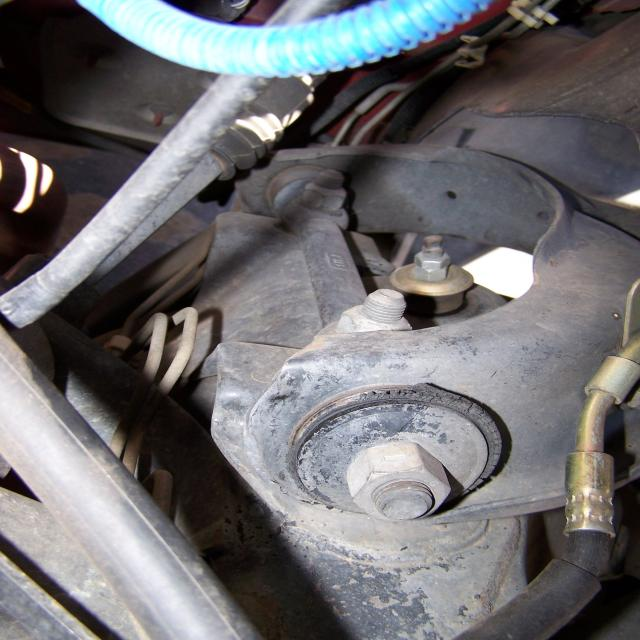bolt nut: (344, 440, 456, 524)
bolt side: (334, 302, 419, 345), (300, 180, 348, 212), (412, 249, 454, 269)
